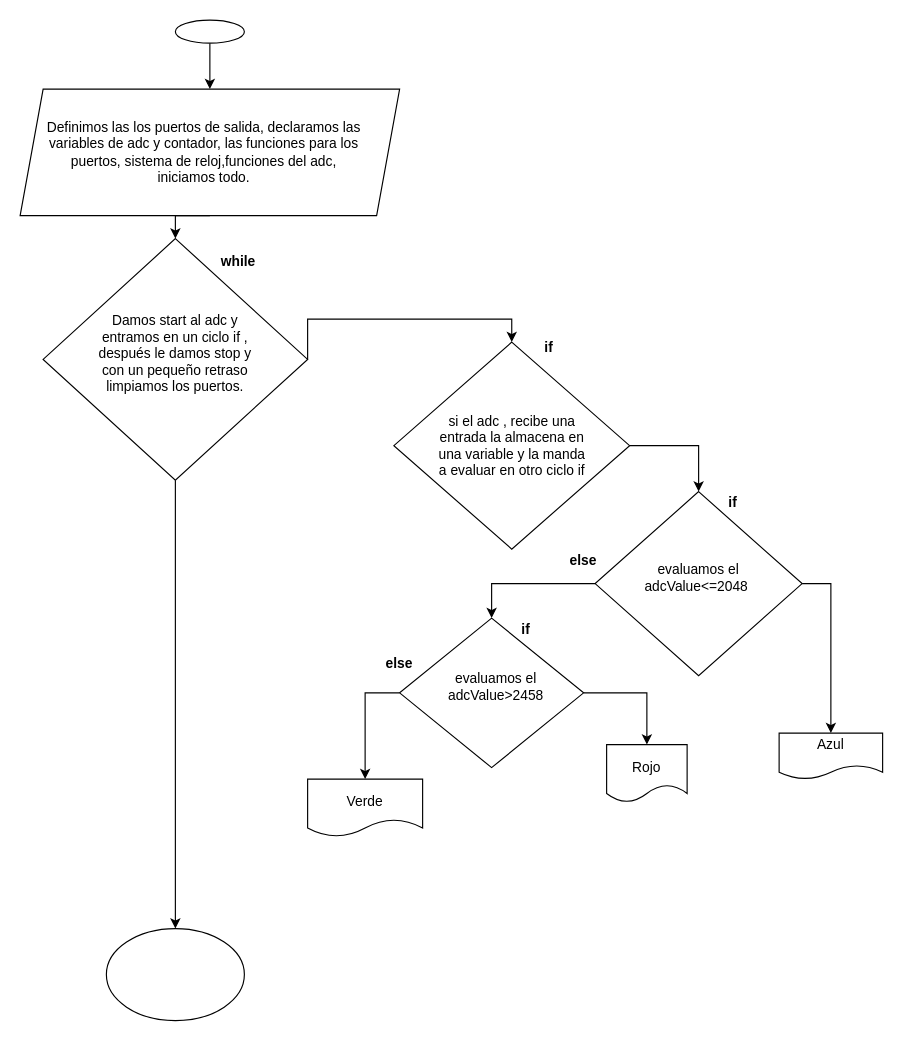
Some shapes in this 903 by 1041 pixel diagram are drawn without their labels. Here are the shapes that lost their labels. From the top down, the box of each, then its label:
(174, 19, 244, 43): INICIO
(105, 927, 244, 1021): FIN
